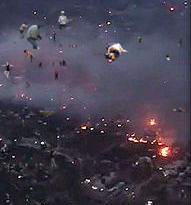Human: (26, 25, 47, 49), (104, 43, 129, 61), (12, 161, 44, 170), (38, 60, 68, 68), (1, 61, 14, 78), (58, 11, 68, 32), (5, 164, 26, 174), (18, 22, 30, 39), (0, 144, 12, 160), (23, 50, 37, 63), (12, 80, 30, 90), (50, 147, 58, 167), (53, 69, 66, 80), (83, 43, 98, 52), (37, 110, 57, 115), (55, 44, 77, 48), (172, 107, 185, 112), (179, 190, 186, 199), (178, 36, 183, 47), (53, 32, 57, 42), (22, 118, 26, 127), (137, 37, 142, 43), (166, 54, 171, 60), (72, 18, 76, 24), (5, 193, 9, 199), (94, 53, 103, 55), (133, 5, 136, 9), (13, 42, 16, 46), (30, 157, 34, 160), (9, 162, 11, 168), (156, 201, 157, 205), (153, 201, 154, 204)
